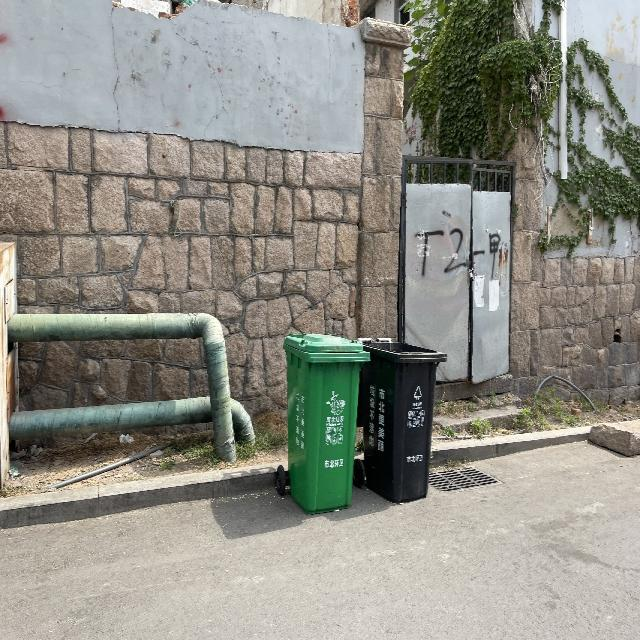garbage_bin: (282, 330, 368, 515), (362, 336, 448, 503)
